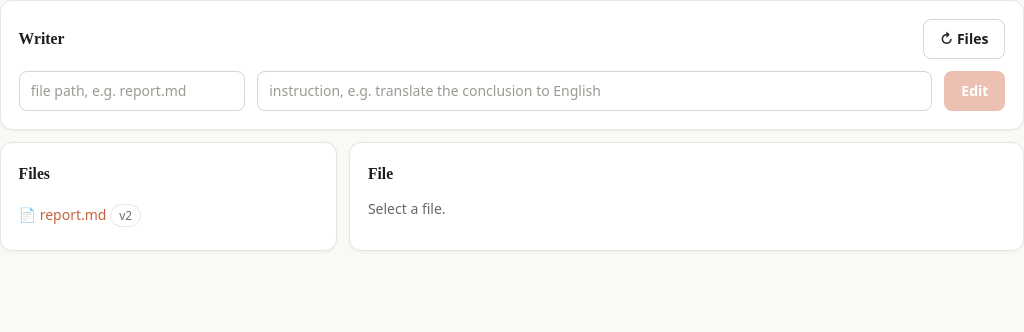
it: Workspace page › lists files and opens one to show its content
The image size is (1024, 332).
Click the link "📄 report.md" at (29, 215), box [19,205,106,224]
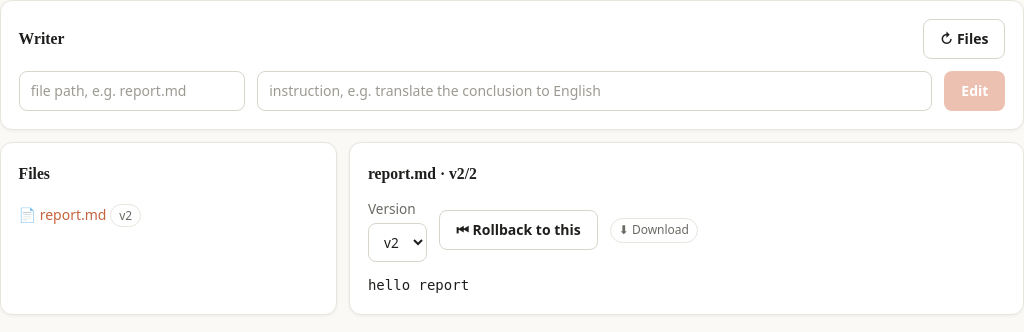
Result: the text "hello report" is shown at [368,277,469,293]
Result: the heading "report.md · v2/2" is shown at [368,161,477,186]
